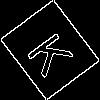K: (25, 25, 83, 79)
